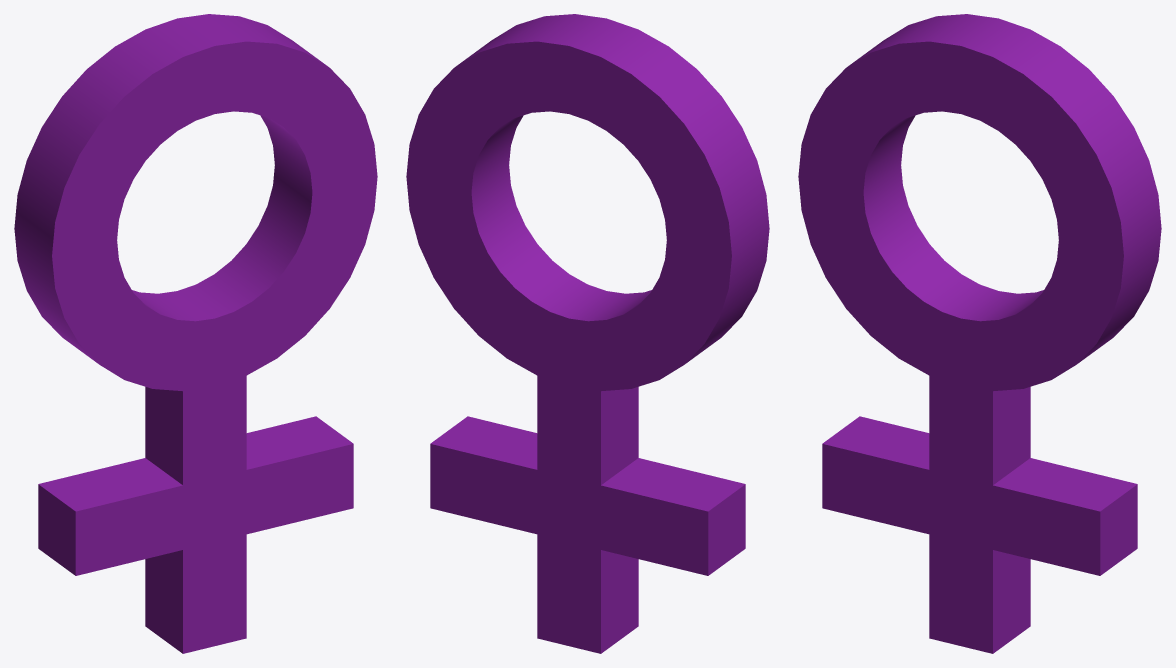
The model's file is female_sign.glb.
3 renders of one model, left to right at view 1: azimuth 30°, elevation 25°; view 2: azimuth 150°, elevation 25°; view 3: azimuth 330°, elevation 25°, orthographic.
Visible parts, largest first — view 1: Circle.2636; view 2: Circle.2636; view 3: Circle.2636.
Part boxes in pixels (x1,y1,x2,y2): Circle.2636: (14, 14, 377, 653); Circle.2636: (406, 14, 769, 653); Circle.2636: (798, 14, 1161, 653).
Bounding box in the file's own units: 1.25 × 2.2 × 0.2496.
Materials: 1 (1 with a texture image).
